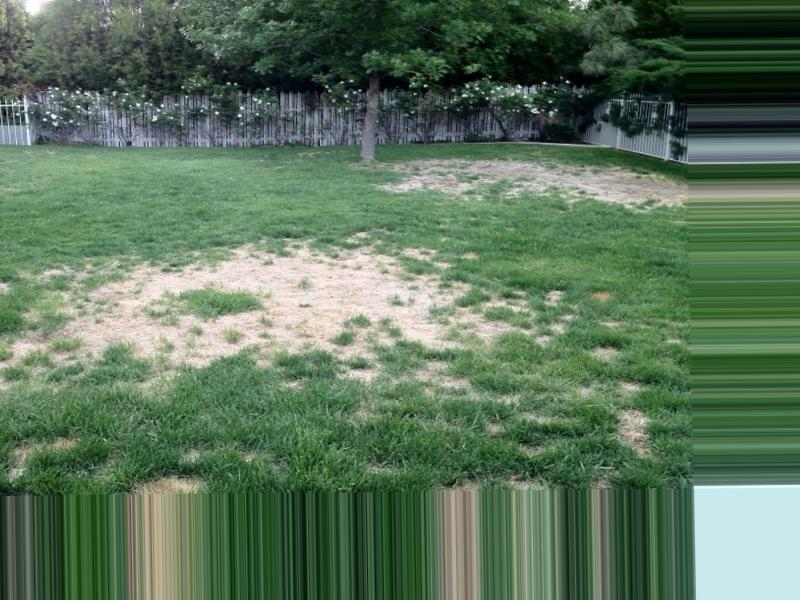patch: (288, 247, 464, 306), (238, 310, 358, 375), (118, 282, 230, 339), (633, 172, 702, 237), (512, 163, 614, 206), (377, 158, 480, 199), (596, 380, 658, 446), (388, 318, 457, 376), (116, 351, 193, 394), (487, 313, 532, 350), (229, 256, 270, 295)
